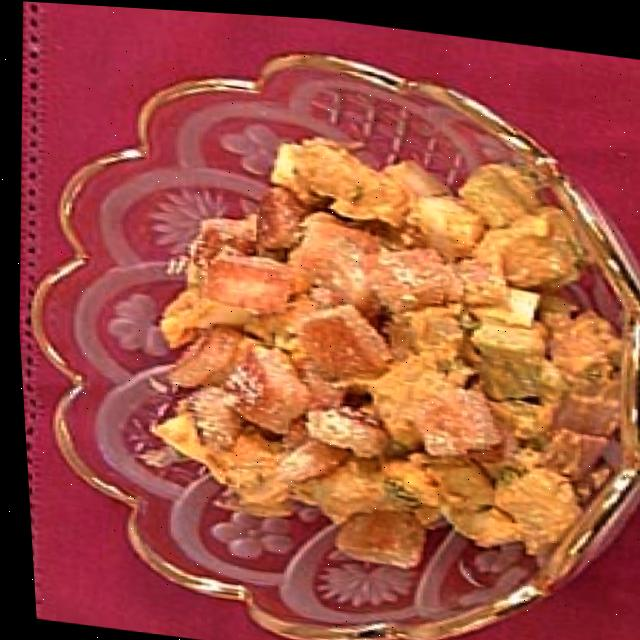蔬菜料理: (1, 11, 640, 640)
